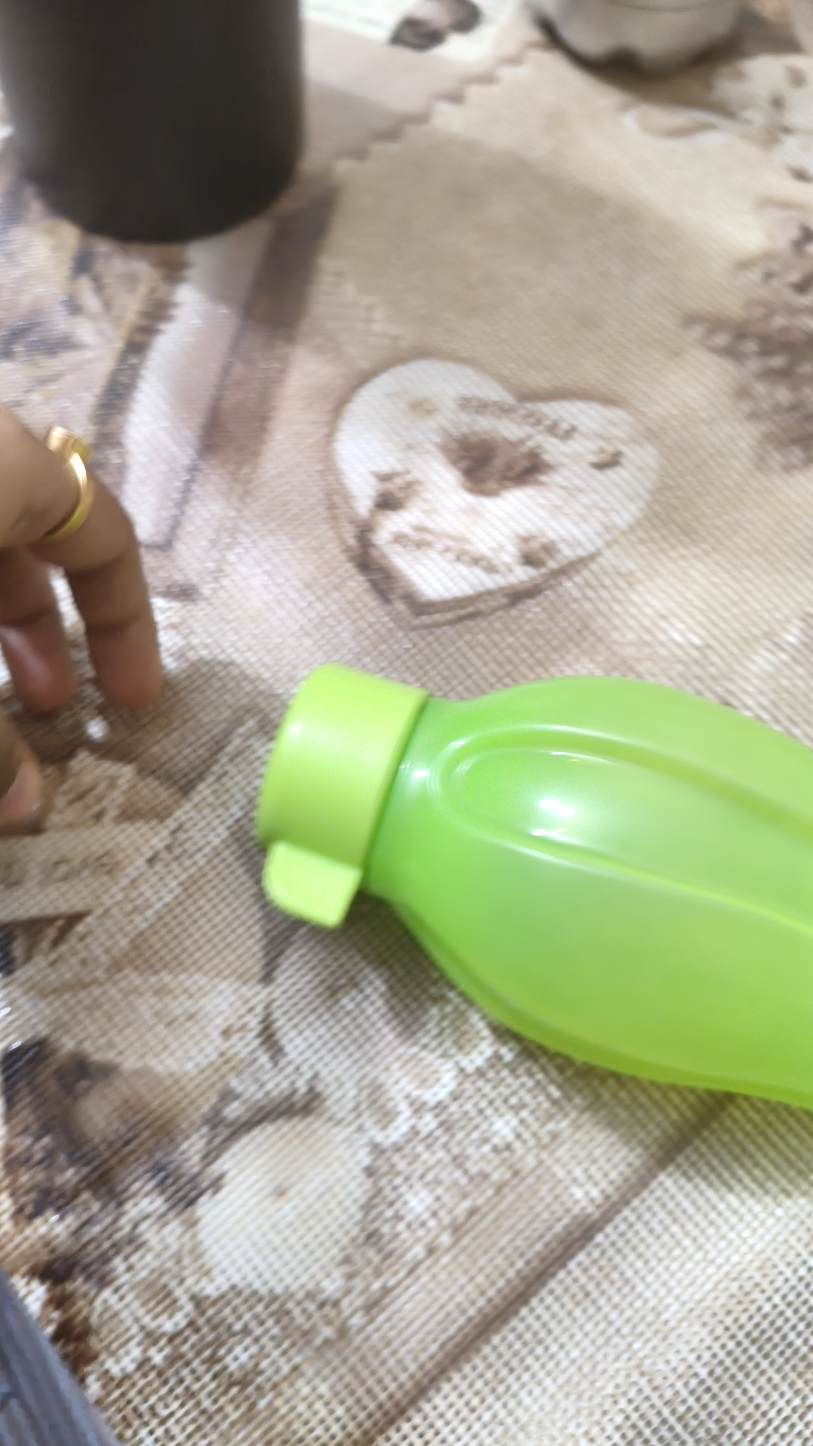bottles: (258, 666, 813, 1107), (0, 0, 303, 244), (539, 0, 749, 75)
